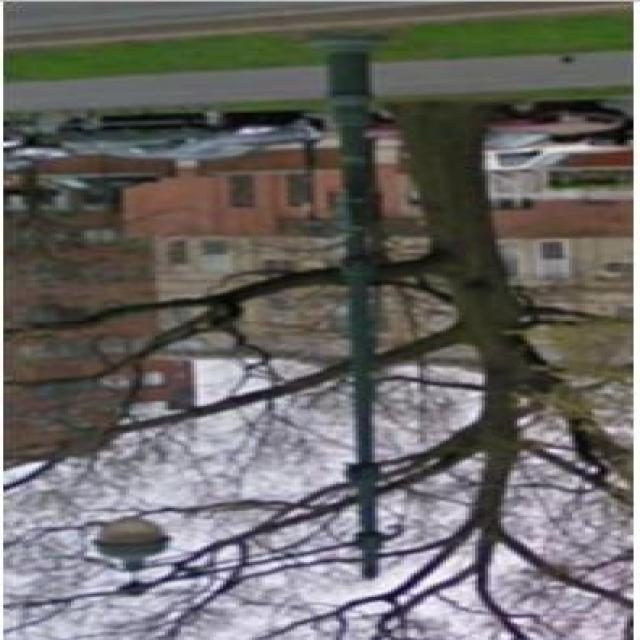off: (30, 473, 220, 632)
